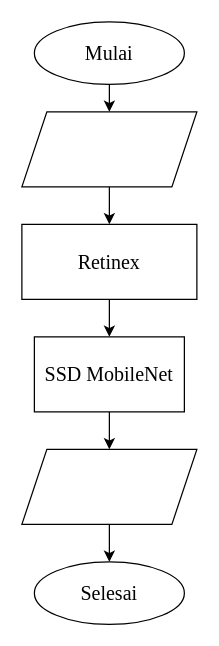
The diagram is 219 pixels wide and 646 high, and some of its shapes have lost their labels. The box of each missing label's shape, as (x1, y1, x2, y2) in pixels:
Input : Webcam: (21, 111, 197, 187)
Output : Deteksi tangan: (21, 448, 197, 524)
